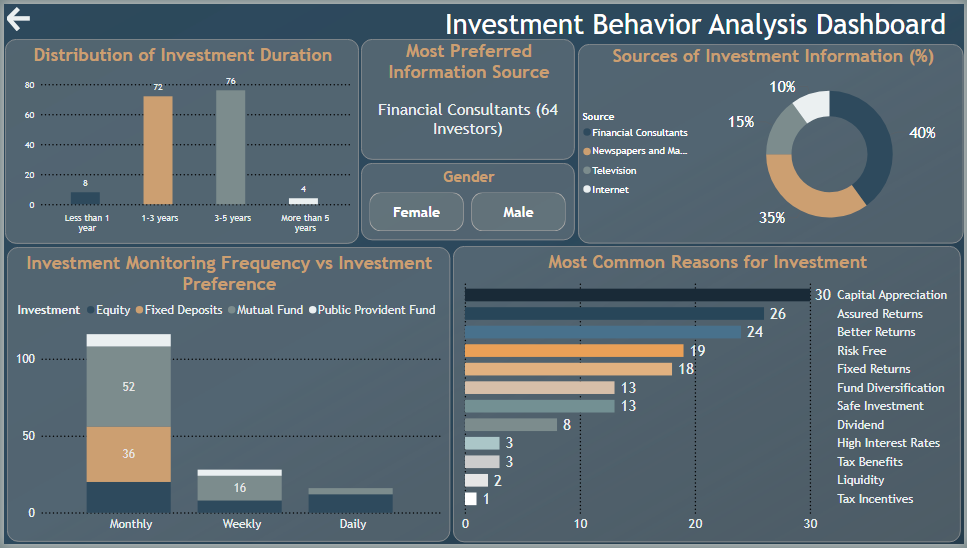

What the dashboard file says about the page in this screenshot:
{"tool":"powerbi","page":{"name":"Dashboard 2","canvas":[1280,720],"ordinal":1},"visuals":[{"type":"textbox","box":[582.7,0,696.9,53.5],"z":0},{"type":"columnChart","title":"Investment Monitoring Frequency vs Investment Preference","fields":{"Category":["Data.Invest_Monitor"],"Series":["Data.Avenue"],"Y":["CountNonNull(Data.Source)"]},"box":[4,324,590.7,393.3],"z":1000},{"type":"clusteredColumnChart","title":"Distribution of Investment Duration","fields":{"Category":["Data.Duration"],"Y":["CountNonNull(Data.Duration)"]},"box":[1.3,46.7,472,273.3],"z":2000},{"type":"clusteredBarChart","title":"Most Common Reasons for Investment","fields":{"Category":["Data.Reason"],"Y":["CountNonNull(Data.Reason)"]},"box":[598.7,322.6,677.4,394.8],"z":3000},{"type":"donutChart","title":"Sources of Investment Information (%)","fields":{"Category":["Data.Source"],"Y":["CountNonNull(Data.Source)"]},"box":[765.2,52.9,513.5,265.8],"z":4000},{"type":"cardVisual","title":"Most Preferred Information Source","fields":{"Data":["Data.Top Source (Name + Count)"]},"box":[476,46.7,285.3,161.3],"z":5000},{"type":"actionButton","box":[0,0,47.7,40.5],"z":6000},{"type":"advancedSlicerVisual","title":"Gender","fields":{"Values":["Data.gender"]},"box":[476,212,285.3,102.7],"z":7001}]}

Visuals, with their boxes in screenshot pixels (x1, y1, x2, y2), scaled from the page's 1280x720 canvas onto the 967x548 screenshot:
textbox: (440, 0, 966, 41)
"Investment Monitoring Frequency vs Investment Preference" columnChart: (3, 247, 449, 546)
"Distribution of Investment Duration" clusteredColumnChart: (1, 36, 358, 244)
"Most Common Reasons for Investment" clusteredBarChart: (452, 246, 964, 546)
"Sources of Investment Information (%)" donutChart: (578, 40, 966, 243)
"Most Preferred Information Source" cardVisual: (360, 36, 575, 158)
actionButton: (0, 0, 36, 31)
"Gender" advancedSlicerVisual: (360, 161, 575, 240)
